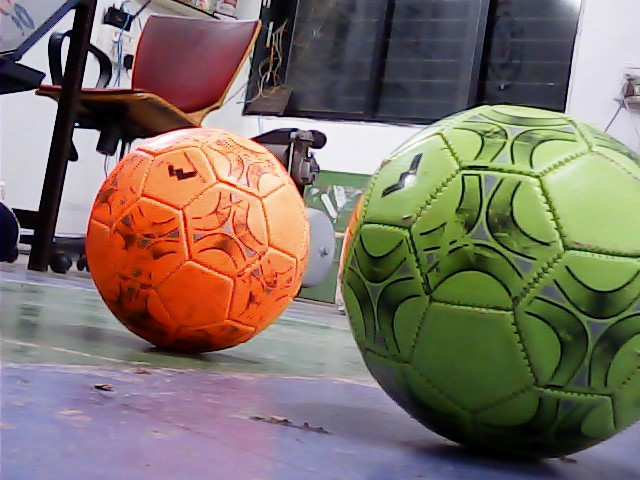Green_ball: (341, 100, 637, 463)
Orange_ball: (86, 126, 323, 354)
